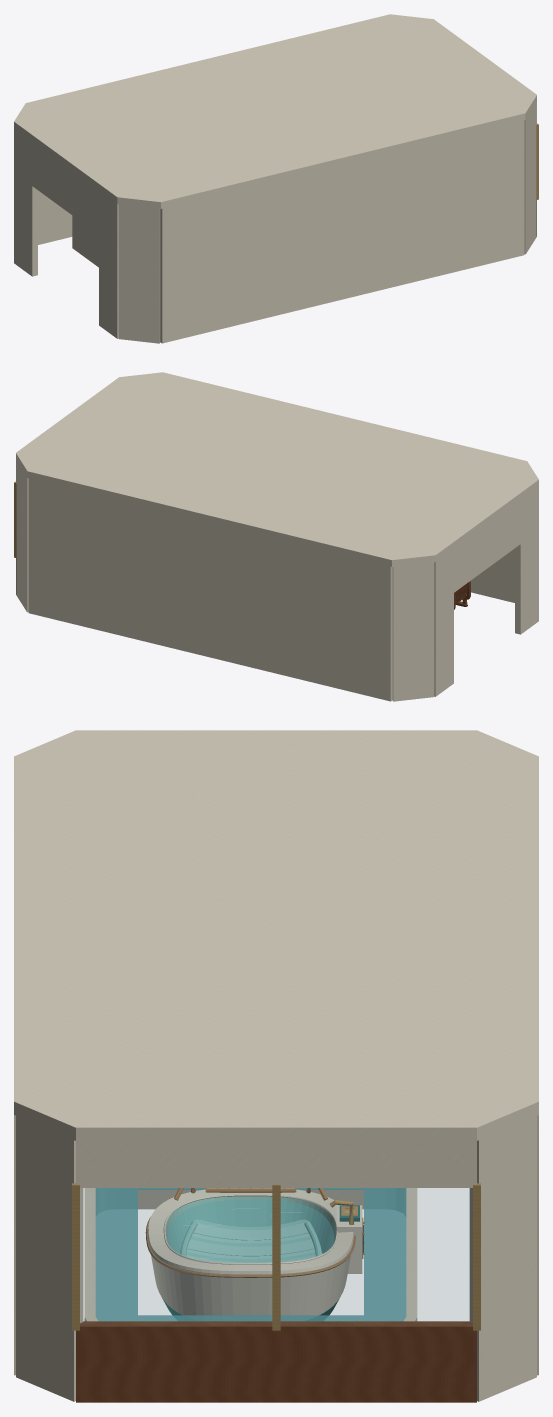
Rendered from D04_PORT_FORWARD_HOME_898_r001.glb.
3 views of the same model, one above another, from view 1: azimuth 30°, elevation 25°; view 2: azimuth 150°, elevation 25°; view 3: azimuth 270°, elevation 25° (orthographic). The views are drawn at different scales.
Parts seen in each view (by area): view 1: D04H898_Roof, D04H898_Shell_3, D04H898_Shell_2, D04H898_EntryWall_0, D04H898_EntryHeader, D04H898_EntryWall_1, D04H898_Shell_4, D04H898_Shell_7, D04H898_BathDogleg; view 2: D04H898_Roof, D04H898_Shell_7, D04H898_Shell_0, D04H898_EntryWall_1, D04H898_EntryHeader, D04H898_EntryWall_0, D04H898_Shell_6, D04H898_Shell_3; view 3: D04H898_Roof, D04H898_GardenGlass, D04H898_GardenDado, D04H898_GardenHead, D04H898_ReservedAquaticRest__Hollow continuous basin shell w, D04H898_Shell_4, D04H898_Shell_6, D04H898_Water_0, D04H898_ReservedAquaticRest__WaterSurface_VisualOnly, D04H898_AquaticBasinRim, D04H898_ReservedAquaticRest__Contoured broad immersed rest s, D04H898_WindowMullion_1 (+5 smaller).
Boxes of the visible parts, <box> form: D04H898_Roof: <box>14,14,536,208</box>; D04H898_Shell_3: <box>160,120,524,343</box>; D04H898_Shell_2: <box>118,204,160,343</box>; D04H898_EntryWall_0: <box>14,128,37,276</box>; D04H898_EntryHeader: <box>32,142,98,234</box>; D04H898_EntryWall_1: <box>99,191,118,338</box>; D04H898_Shell_4: <box>524,103,536,254</box>; D04H898_Shell_7: <box>38,190,72,244</box>; D04H898_BathDogleg: <box>72,215,98,267</box>; D04H898_Roof: <box>16,372,538,566</box>; D04H898_Shell_7: <box>28,478,392,701</box>; D04H898_Shell_0: <box>392,562,434,701</box>; D04H898_EntryWall_1: <box>515,486,538,634</box>; D04H898_EntryHeader: <box>454,500,520,592</box>; D04H898_EntryWall_0: <box>434,549,453,696</box>; D04H898_Shell_6: <box>16,461,28,612</box>; D04H898_Shell_3: <box>470,548,514,602</box>; D04H898_Roof: <box>14,730,538,1140</box>; D04H898_GardenGlass: <box>81,1188,472,1325</box>; D04H898_GardenDado: <box>76,1321,476,1402</box>; D04H898_GardenHead: <box>76,1141,476,1187</box>; D04H898_ReservedAquaticRest__Hollow continuous basin shell w: <box>147,1189,353,1315</box>; D04H898_Shell_4: <box>16,1116,83,1401</box>; D04H898_Shell_6: <box>469,1116,536,1401</box>; D04H898_Water_0: <box>95,1188,406,1321</box>; D04H898_ReservedAquaticRest__WaterSurface_VisualOnly: <box>168,1200,333,1262</box>; D04H898_AquaticBasinRim: <box>84,1188,417,1321</box>; D04H898_ReservedAquaticRest__Contoured broad immersed rest s: <box>179,1219,322,1262</box>; D04H898_WindowMullion_1: <box>272,1184,280,1330</box>.
Size of the model in its own units: 12.93 by 4.16 by 7.2.
39 materials, 20 textured.
